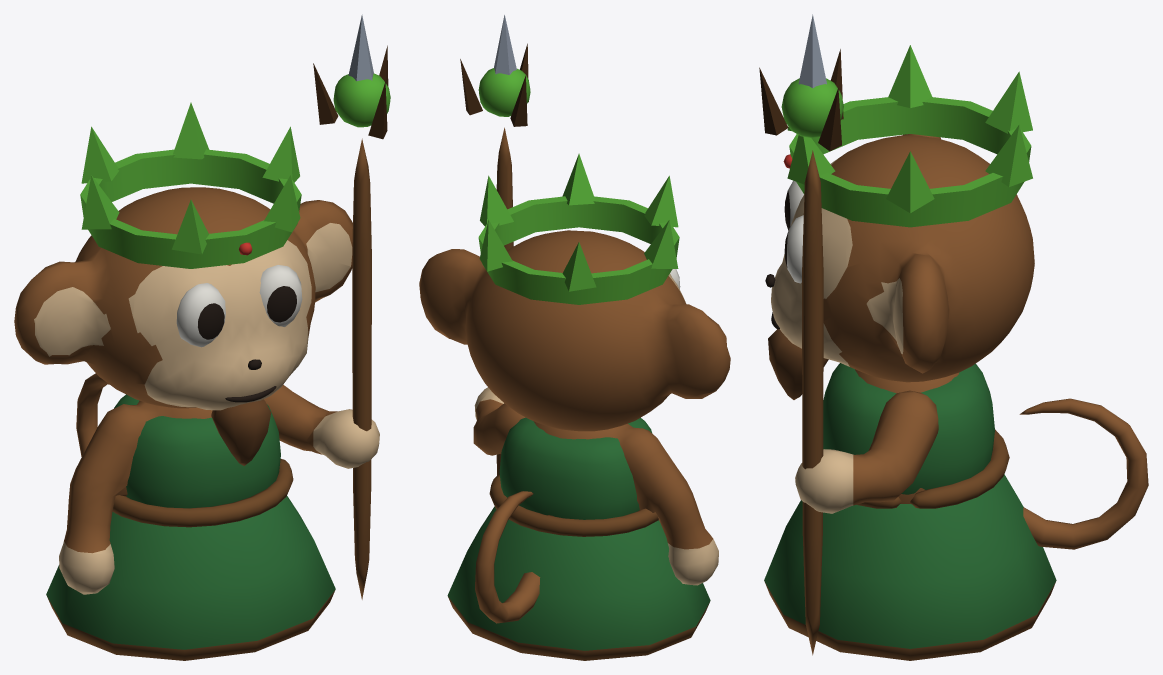
3 views of the same model, side by side, from view 1: azimuth 30°, elevation 25°; view 2: azimuth 150°, elevation 25°; view 3: azimuth 270°, elevation 25° (orthographic). The views are drawn at different scales.
Visible parts, largest first — view 1: druida_2_cabeca, druida_0_corpo, druida_3_braco, druida_1_cauda; view 2: druida_2_cabeca, druida_0_corpo, druida_3_braco, druida_1_cauda; view 3: druida_2_cabeca, druida_0_corpo, druida_3_braco, druida_1_cauda.
Part boxes in pixels (left/top/right/bottom): druida_2_cabeca: left=14, top=102, right=352, bottom=465; druida_0_corpo: left=46, top=394, right=335, bottom=660; druida_3_braco: left=264, top=14, right=390, bottom=599; druida_1_cauda: left=76, top=373, right=109, bottom=456; druida_2_cabeca: left=419, top=153, right=730, bottom=431; druida_0_corpo: left=447, top=417, right=718, bottom=660; druida_3_braco: left=460, top=15, right=530, bottom=475; druida_1_cauda: left=475, top=491, right=540, bottom=623; druida_2_cabeca: left=765, top=45, right=1034, bottom=399; druida_0_corpo: left=764, top=363, right=1056, bottom=660; druida_3_braco: left=759, top=14, right=938, bottom=655; druida_1_cauda: left=1019, top=398, right=1148, bottom=549.
Size of the model in its own units: 0.7918 by 1.37 by 0.7186.
